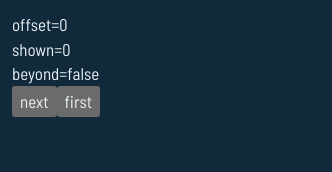
Test: usePaging › reads and writes its parameter, leaving it out for the first page
The image size is (332, 172).
Later steps or results of the test are not shown.
Check: the text "offset=0" is shown, box [12,14,68,34]
Click the button "next".
click(34, 101)  # box [12,86,57,116]
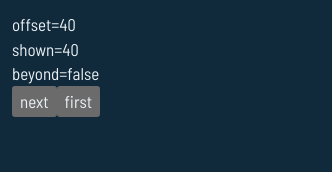
Check: the text "offset=40" is shown, box [12,14,76,34]
